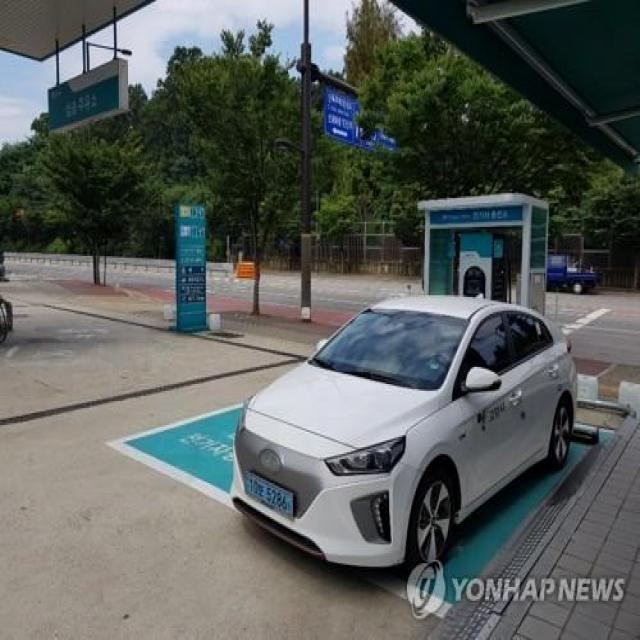EV_plate: (246, 469, 300, 526)
car: (227, 281, 582, 583)
